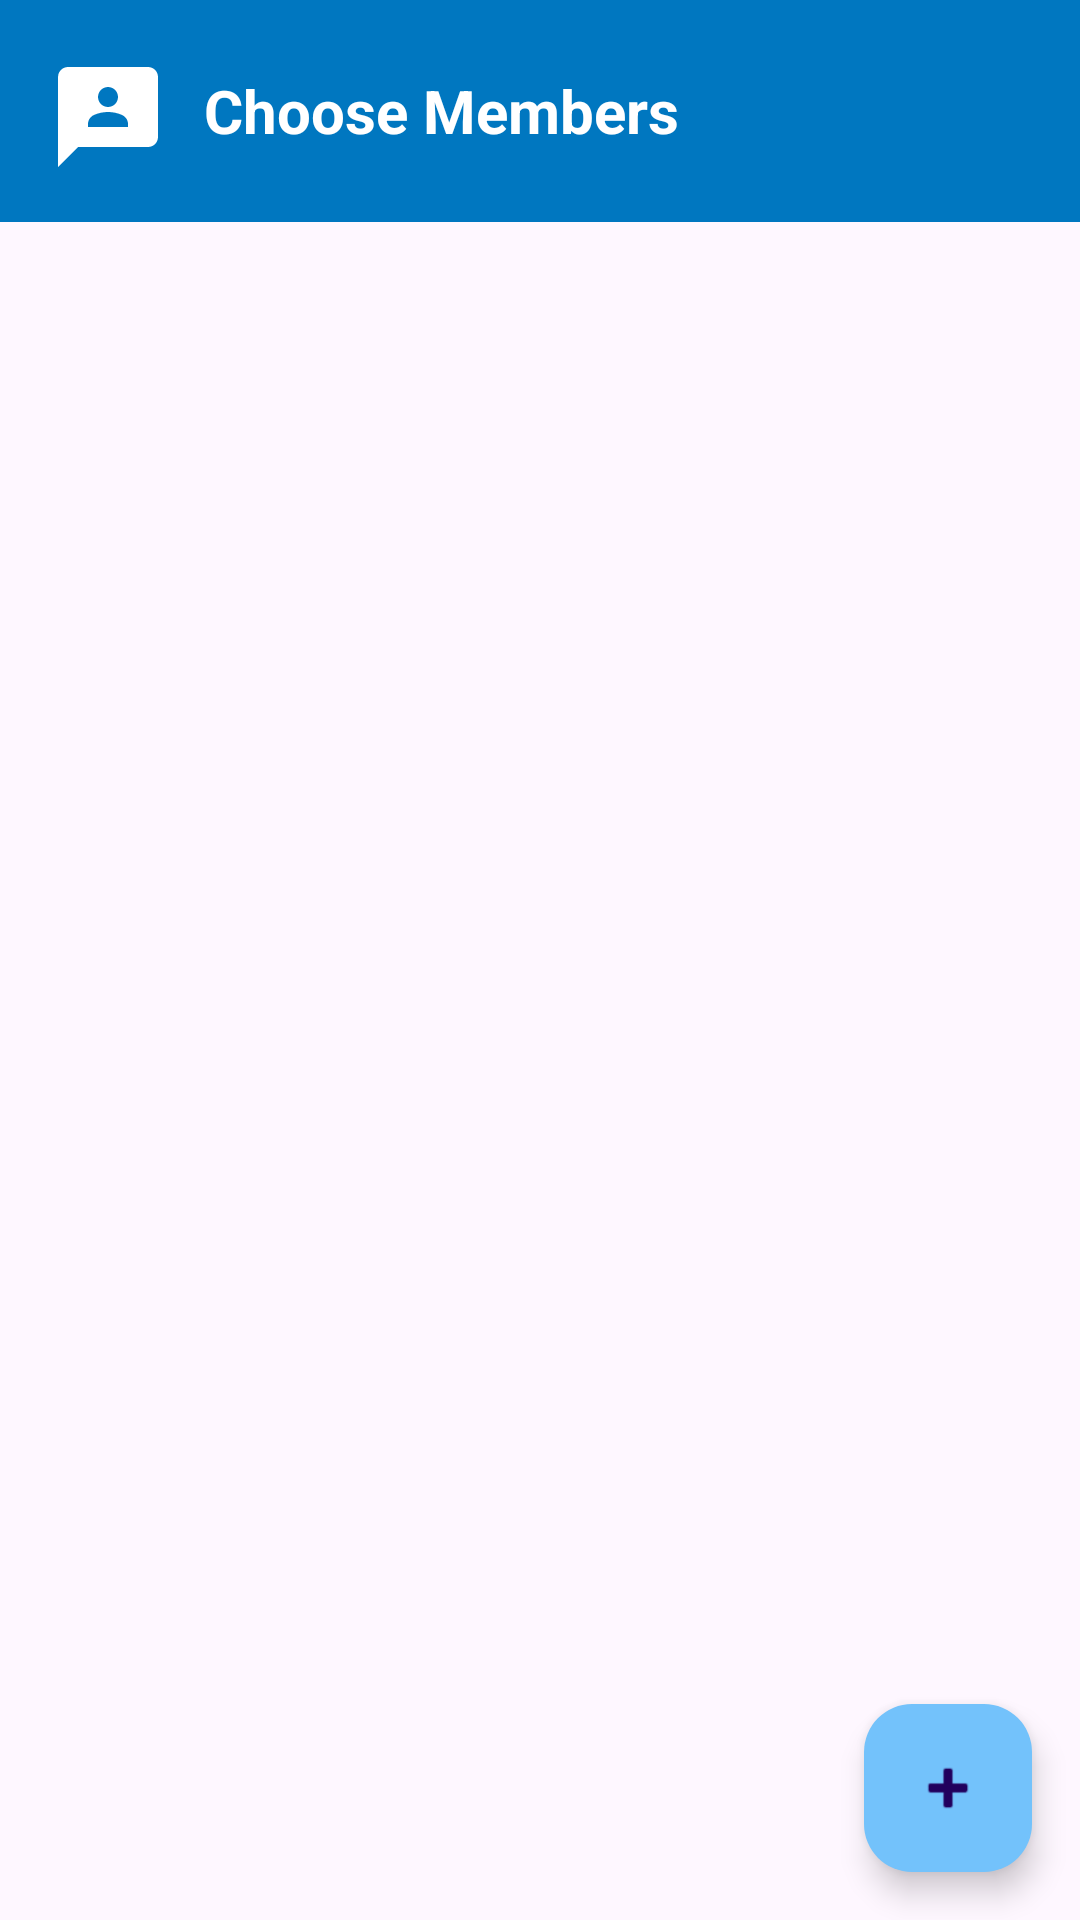

Screen size 1080w x 1920h. Icon name, then its box in pixels as (x1, y1, x2, y2):
Create Group: (864, 1704, 1032, 1872)
